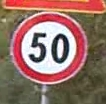limite 50: (8, 11, 87, 84)
